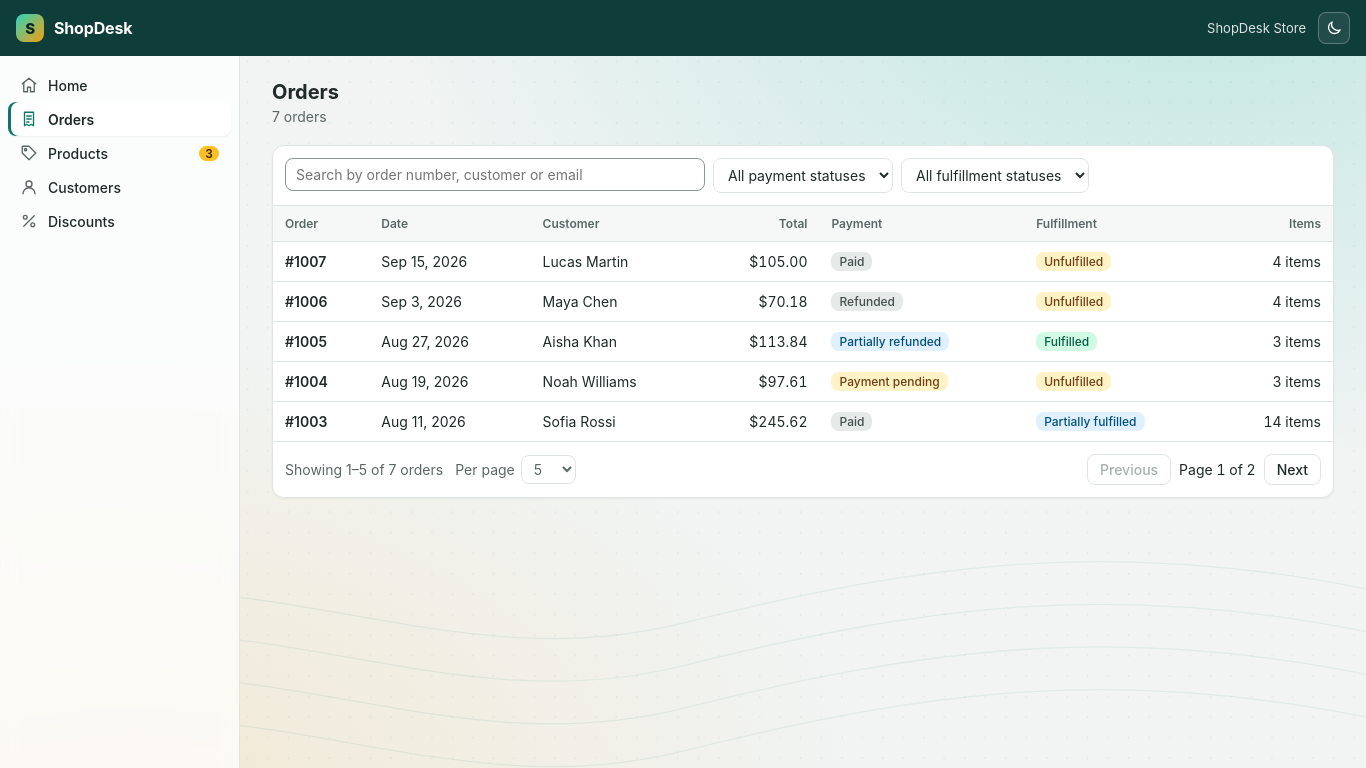
Test: OrdersPage › pages through orders and returns to page one when a filter changes
Click the button "Next". click: (1292, 470)
box: [1264,454,1321,485]
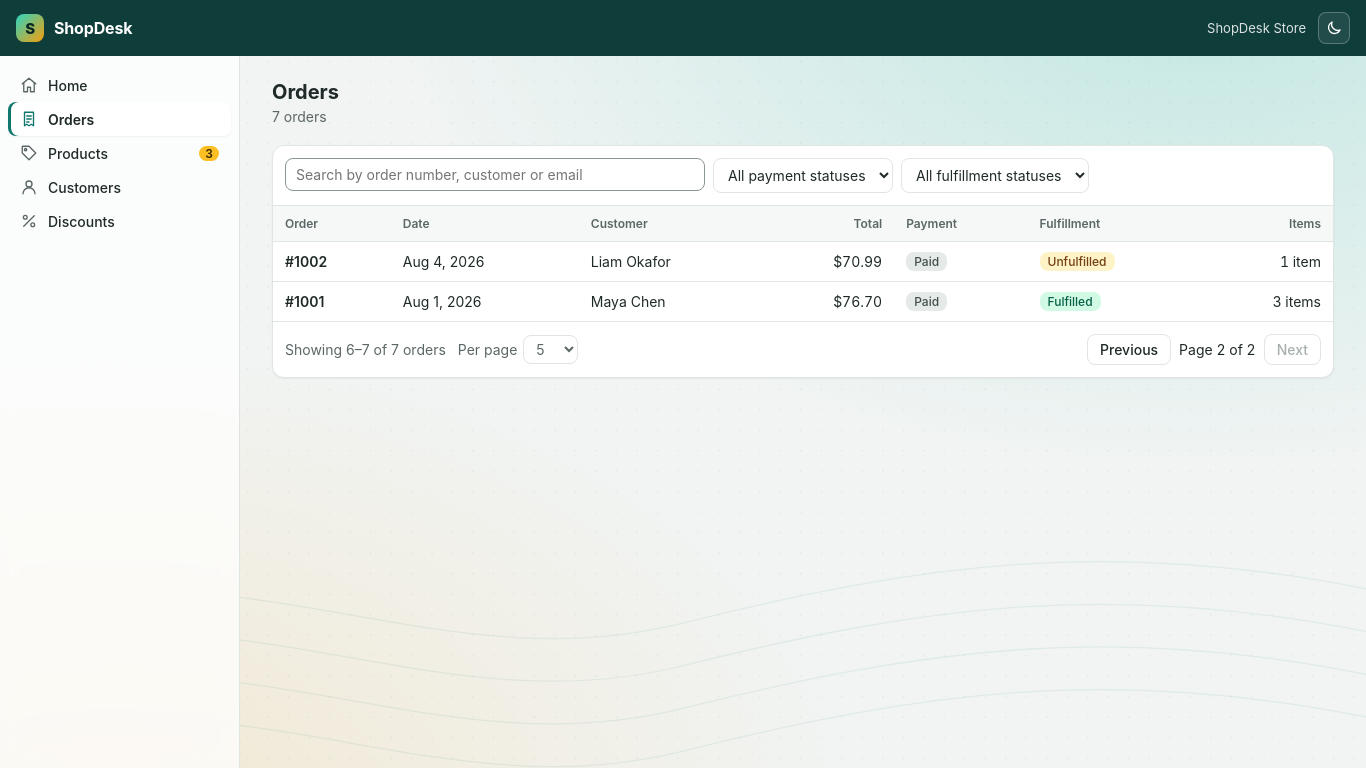
Select "Unfulfilled" in the dropdown named "Fulfillment status". click: (995, 176)
box: [901,158,1089,193]
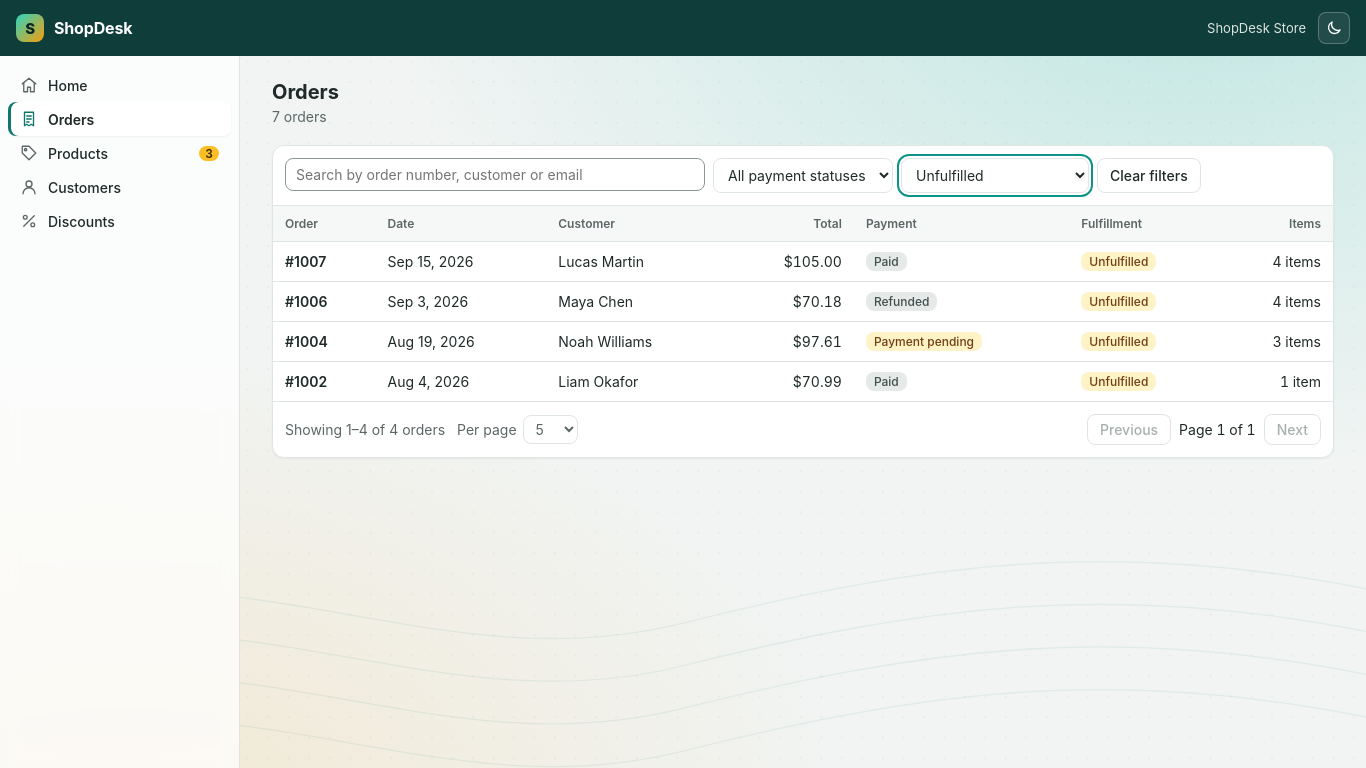
Expected: the text "Page 1 of 1" is shown, [1179,421,1256,438]
